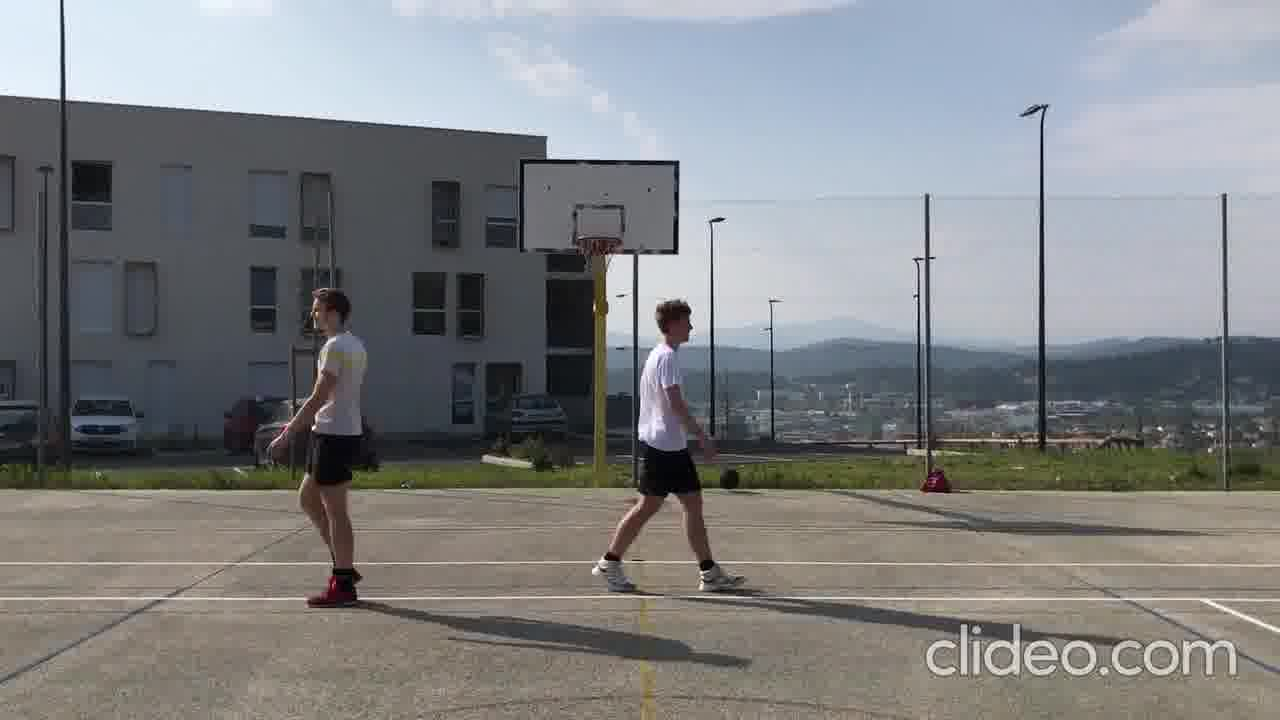jugador: (254, 276, 379, 623)
